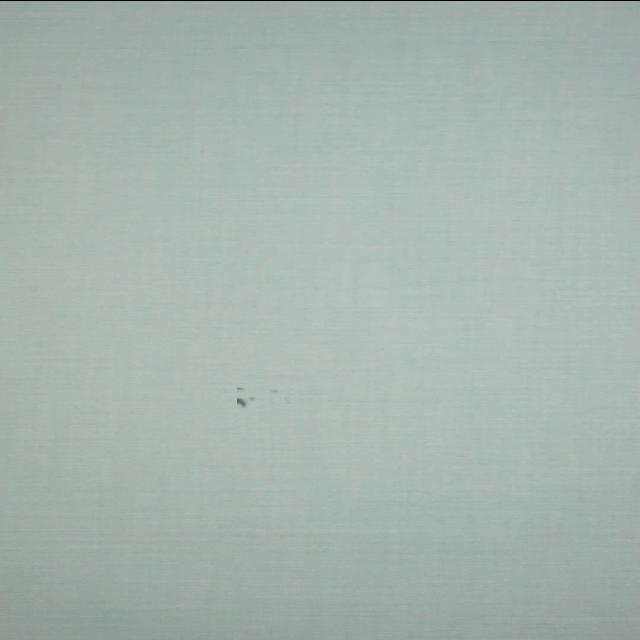dirty: (235, 396, 247, 406), (236, 386, 246, 390)
